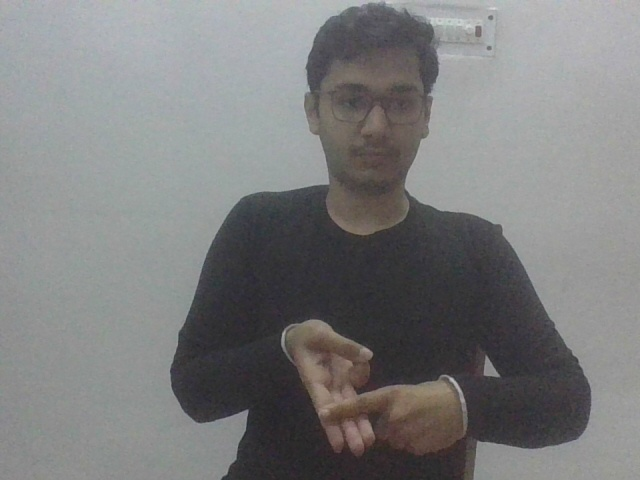E: (272, 315, 466, 464)
